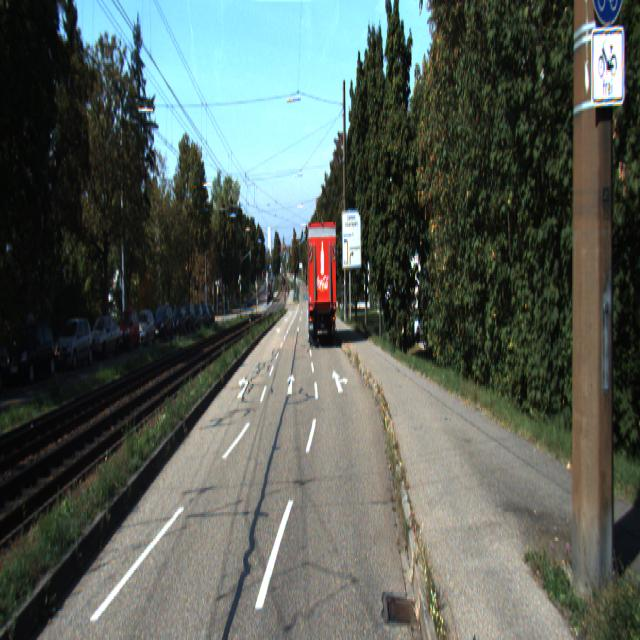Car: (305, 221, 338, 351), (6, 318, 56, 387), (54, 318, 94, 373), (86, 316, 122, 362), (116, 308, 141, 352), (0, 325, 12, 399), (134, 311, 155, 348)
